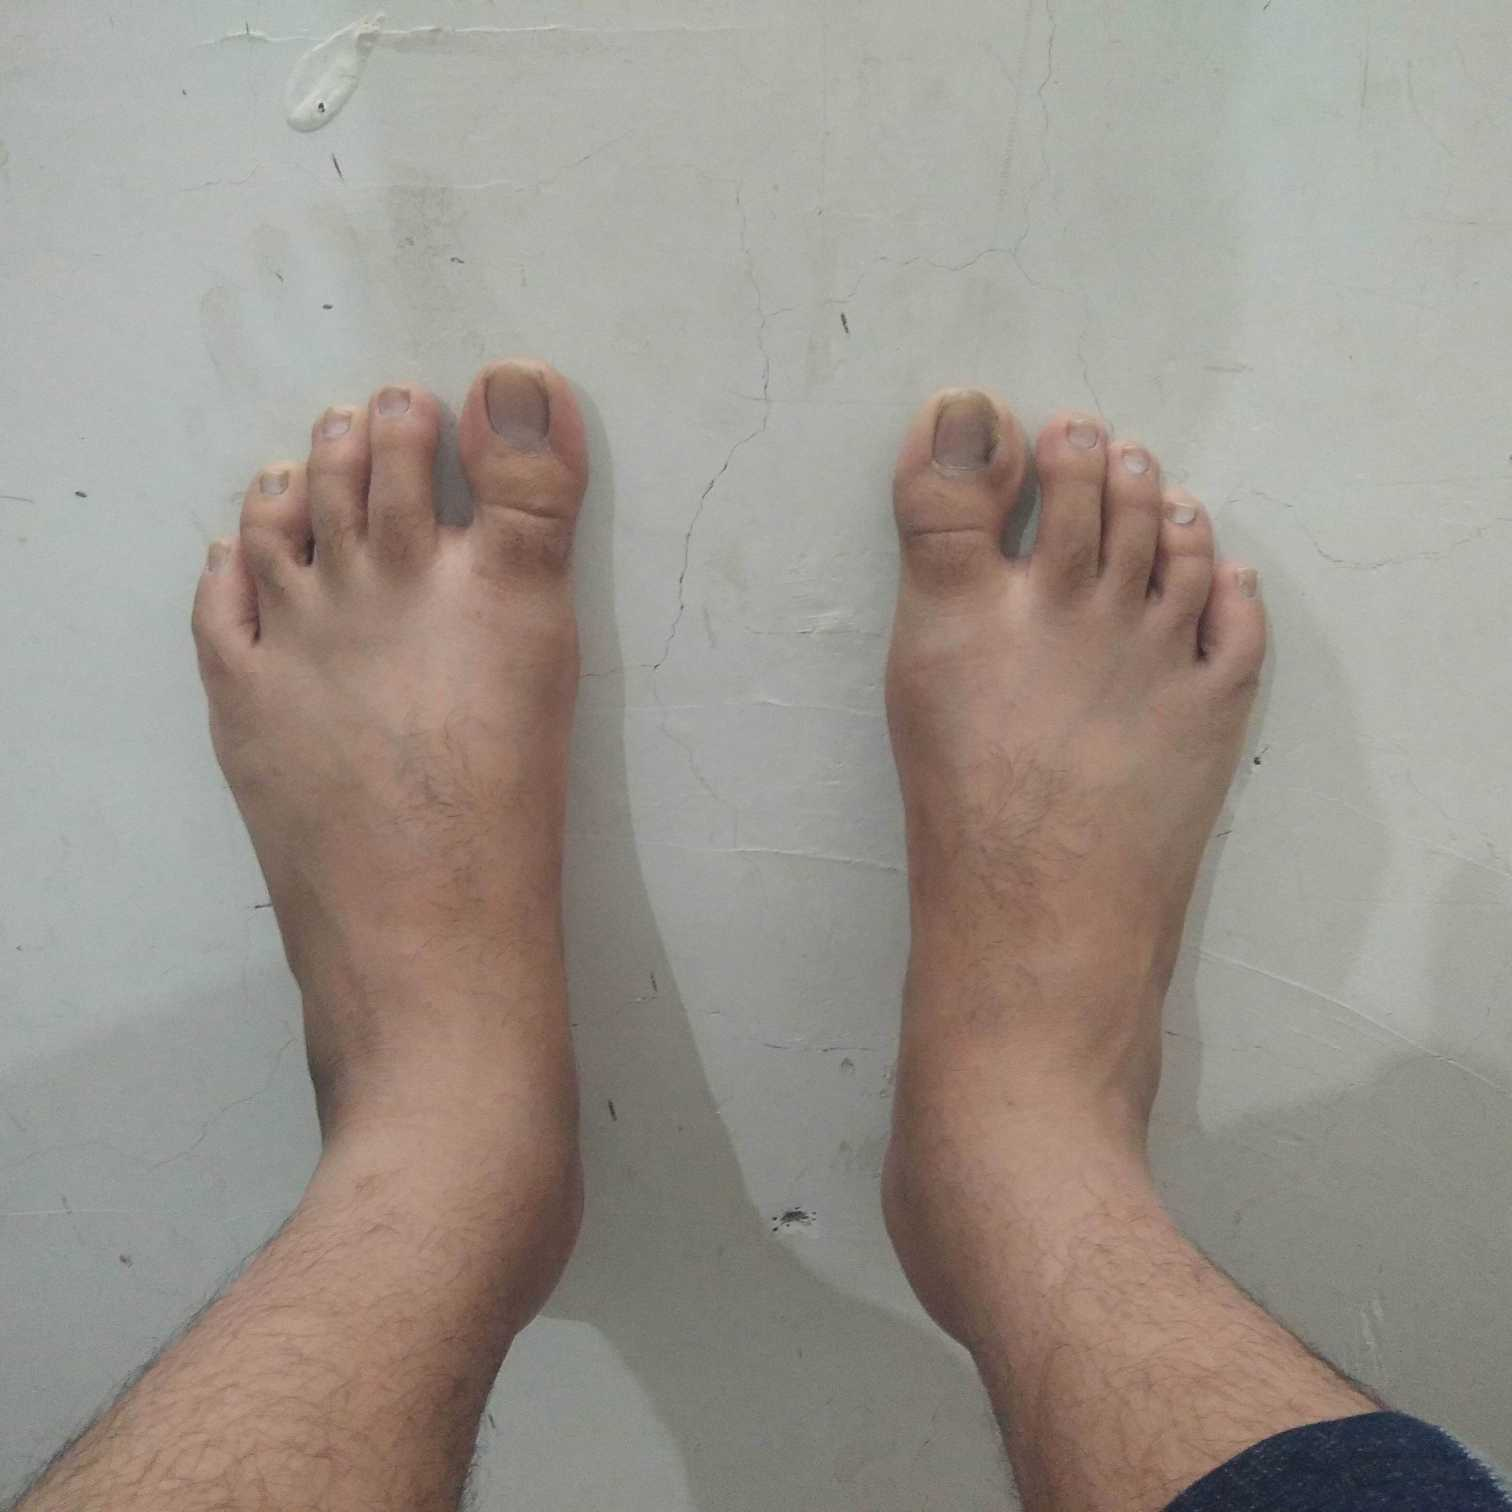foot: (194, 356, 584, 1092), (879, 390, 1271, 1109)
